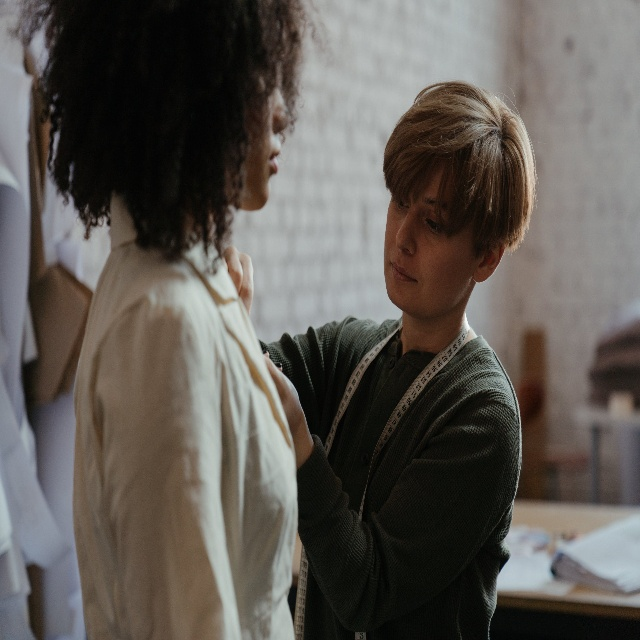Sin_guantes: (262, 349, 303, 437), (221, 244, 254, 316)
